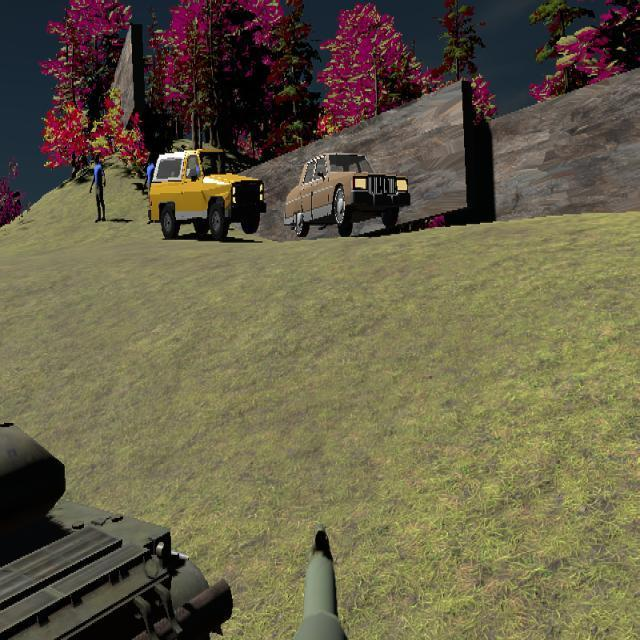Human: (90, 153, 106, 223)
Tank: (0, 403, 241, 639)
car: (284, 151, 412, 237), (148, 149, 268, 240)
